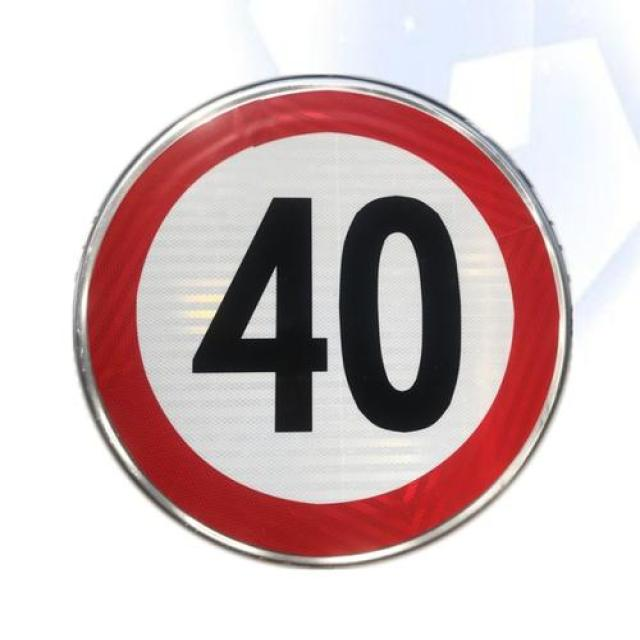speed limit 40: (73, 73, 574, 569)
